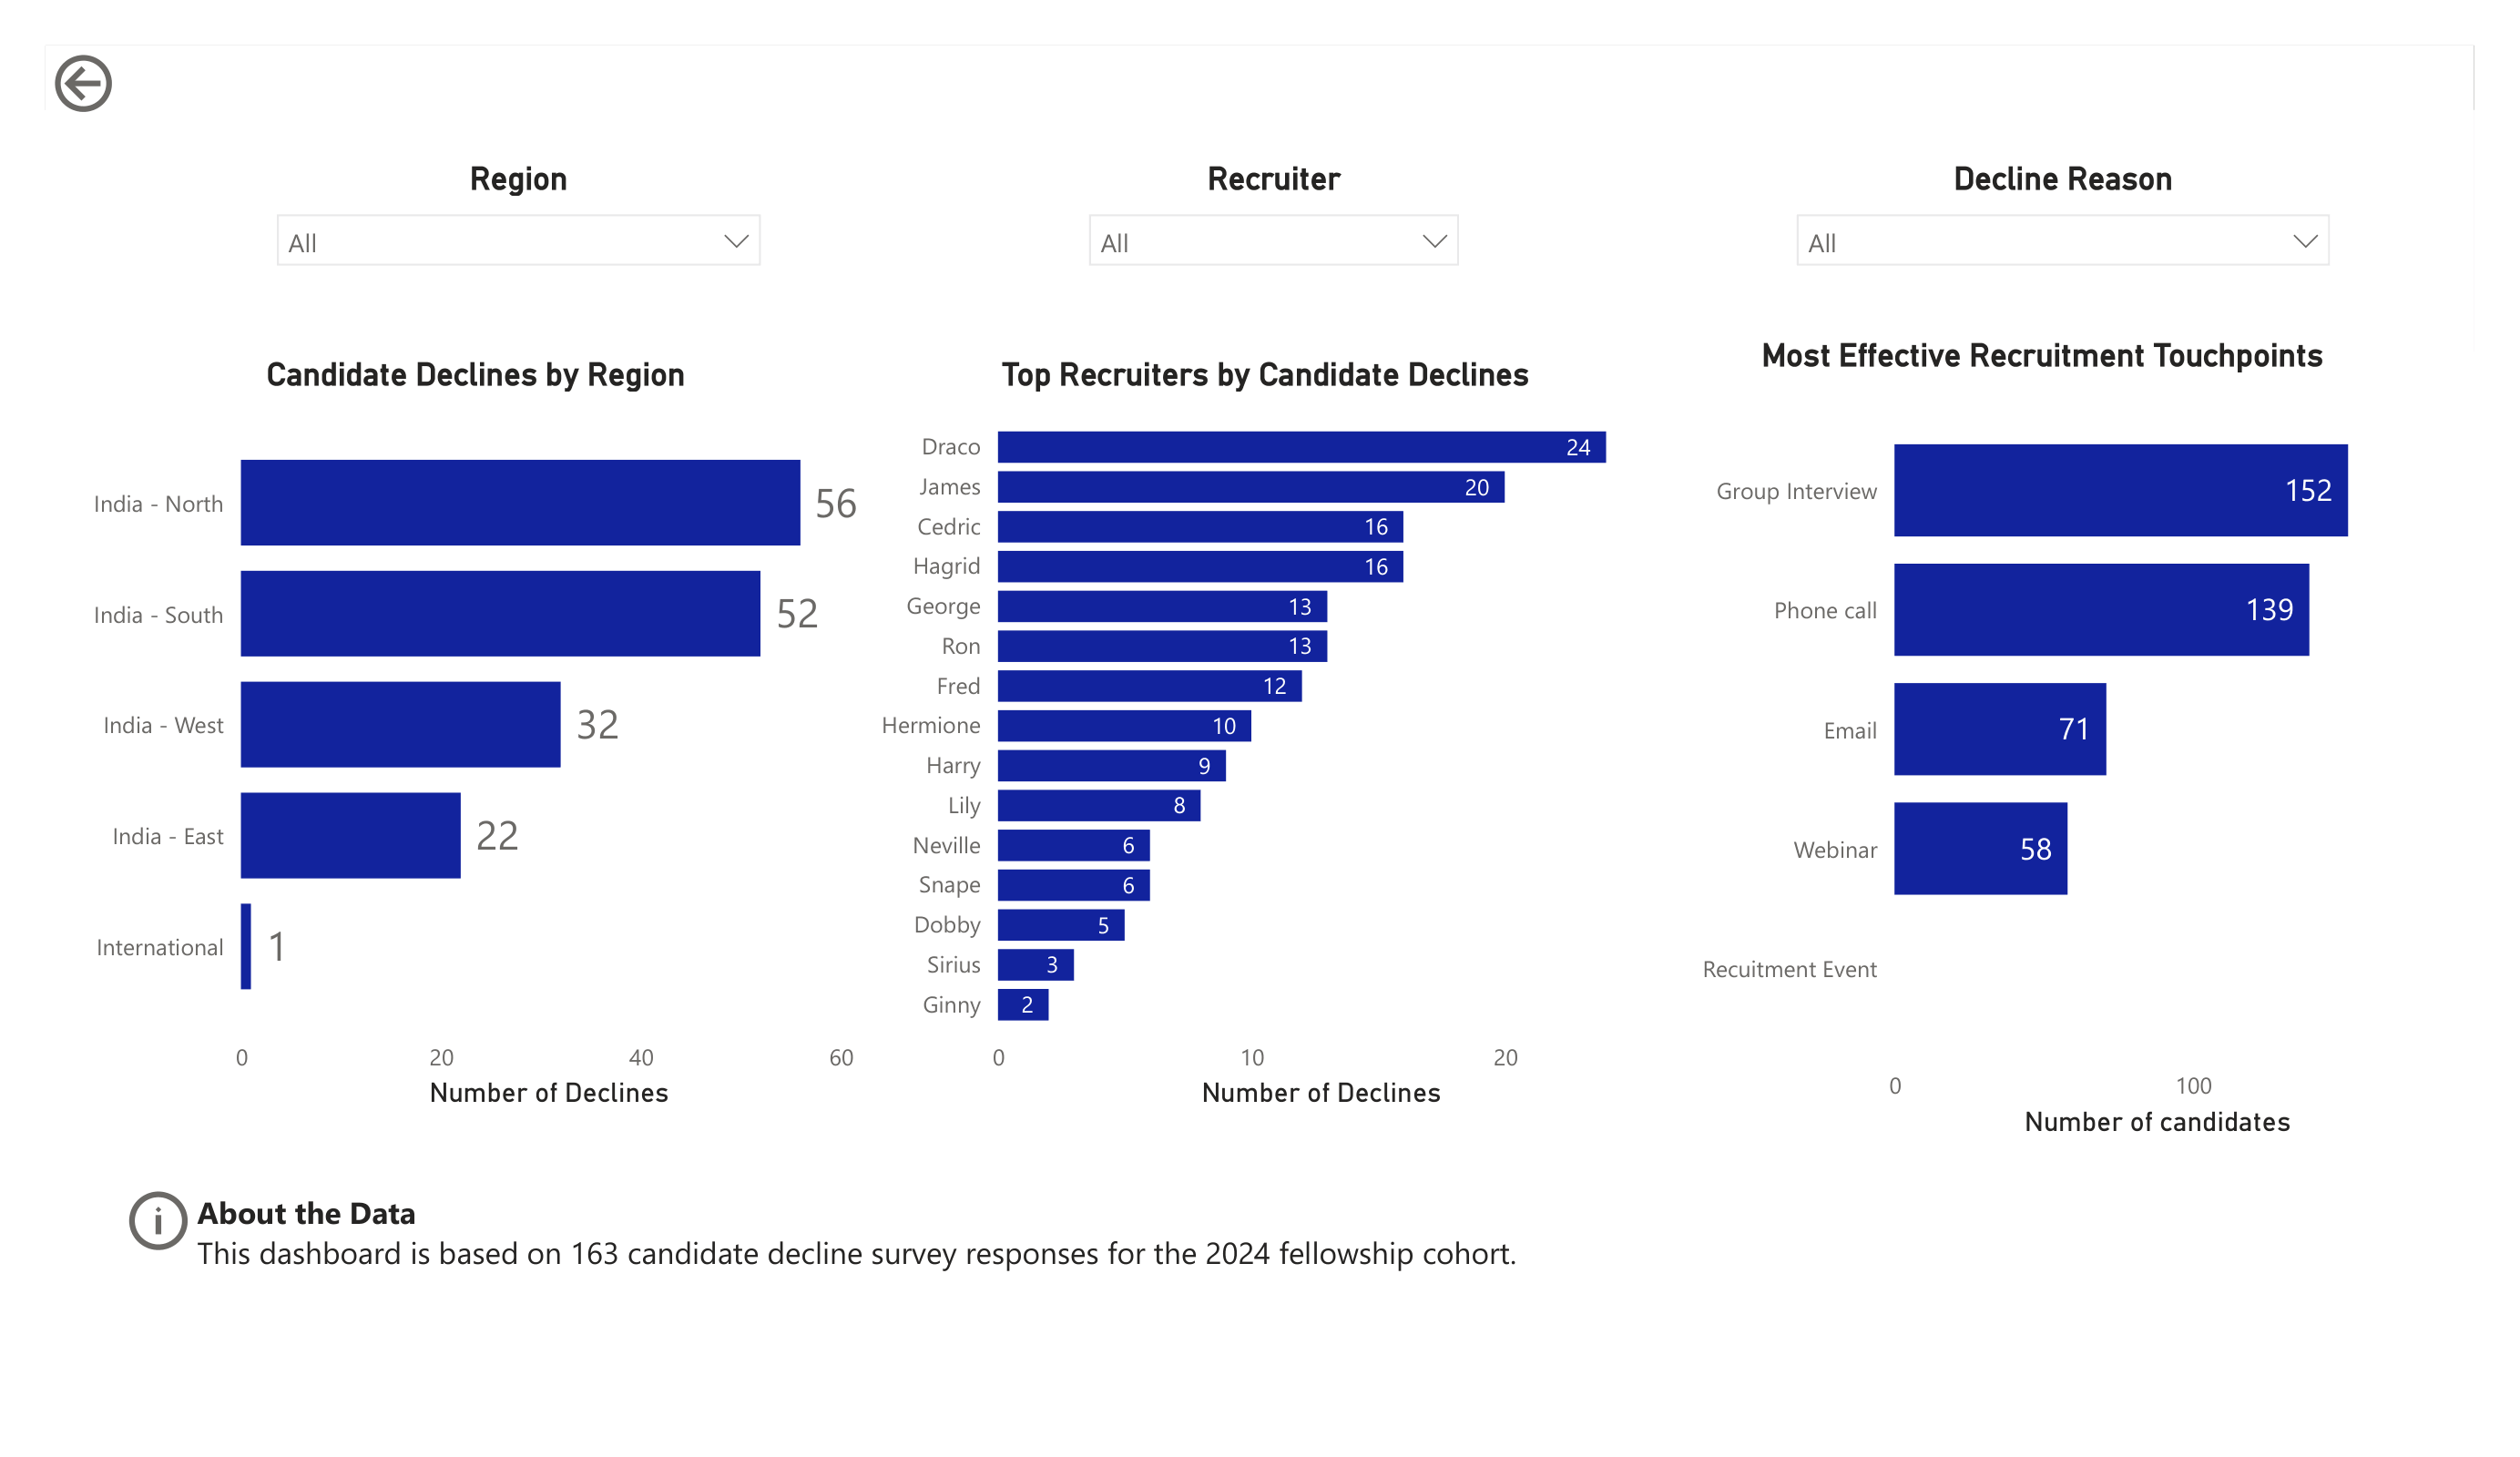

The page's visual inventory and layout, read from the dashboard file:
{"tool":"powerbi","page":{"name":"Operational Drill-Down","canvas":[1280,720],"ordinal":1},"visuals":[{"type":"slicer","title":"Region","fields":{"Values":["clean_decline_survey.region"]},"box":[111.6,60.5,275.6,79.1],"z":0},{"type":"slicer","title":"Recruiter","fields":{"Values":["Recruiter Analysis.name_of_tfi_recruiter"]},"box":[539.5,60.5,215.1,93],"z":1000},{"type":"slicer","title":"Decline Reason","fields":{"Values":["Decline reasons.primary_decline_reason"]},"box":[912.8,60.5,301.2,84.9],"z":2000},{"type":"clusteredBarChart","title":"Top Recruiters by Candidate Declines","fields":{"Y":["Sum(Recruiter Analysis.decline_count)"],"Category":["Recruiter Analysis.name_of_tfi_recruiter"]},"box":[431.4,162.8,423.3,402.3],"z":3000},{"type":"clusteredBarChart","title":"Candidate Declines by Region","fields":{"Category":["Regional Declines.region"],"Y":["Sum(Regional Declines.decline_count)"]},"box":[14,162.8,425.6,402.3],"z":4000},{"type":"actionButton","box":[0,0,100,40],"z":5000},{"type":"clusteredBarChart","title":"Most Effective Recruitment Touchpoints","fields":{"Category":["touchpoint_labels.Touchpoints"],"Y":["touchpoint_labels.Touchpoint Effectiveness"]},"box":[838.4,153.5,429.1,426.7],"z":6000},{"type":"actionButton","box":[39,599.4,54.6,40.6],"z":7000},{"type":"textbox","box":[74.9,599.4,977.2,82.7],"z":7001}]}

Visuals, with their boxes on the page's 1280x720 design canvas (x1, y1, x2, y2). These are canvas units, not pixel positions in the 2520x1457 screenshot, which may show the page scaled, cropped or inside an application window:
"Region" slicer: locate(112, 60, 387, 140)
"Recruiter" slicer: locate(540, 60, 755, 154)
"Decline Reason" slicer: locate(913, 60, 1214, 145)
"Top Recruiters by Candidate Declines" clusteredBarChart: locate(431, 163, 855, 565)
"Candidate Declines by Region" clusteredBarChart: locate(14, 163, 440, 565)
actionButton: locate(0, 0, 100, 40)
"Most Effective Recruitment Touchpoints" clusteredBarChart: locate(838, 154, 1268, 580)
actionButton: locate(39, 599, 94, 640)
textbox: locate(75, 599, 1052, 682)
